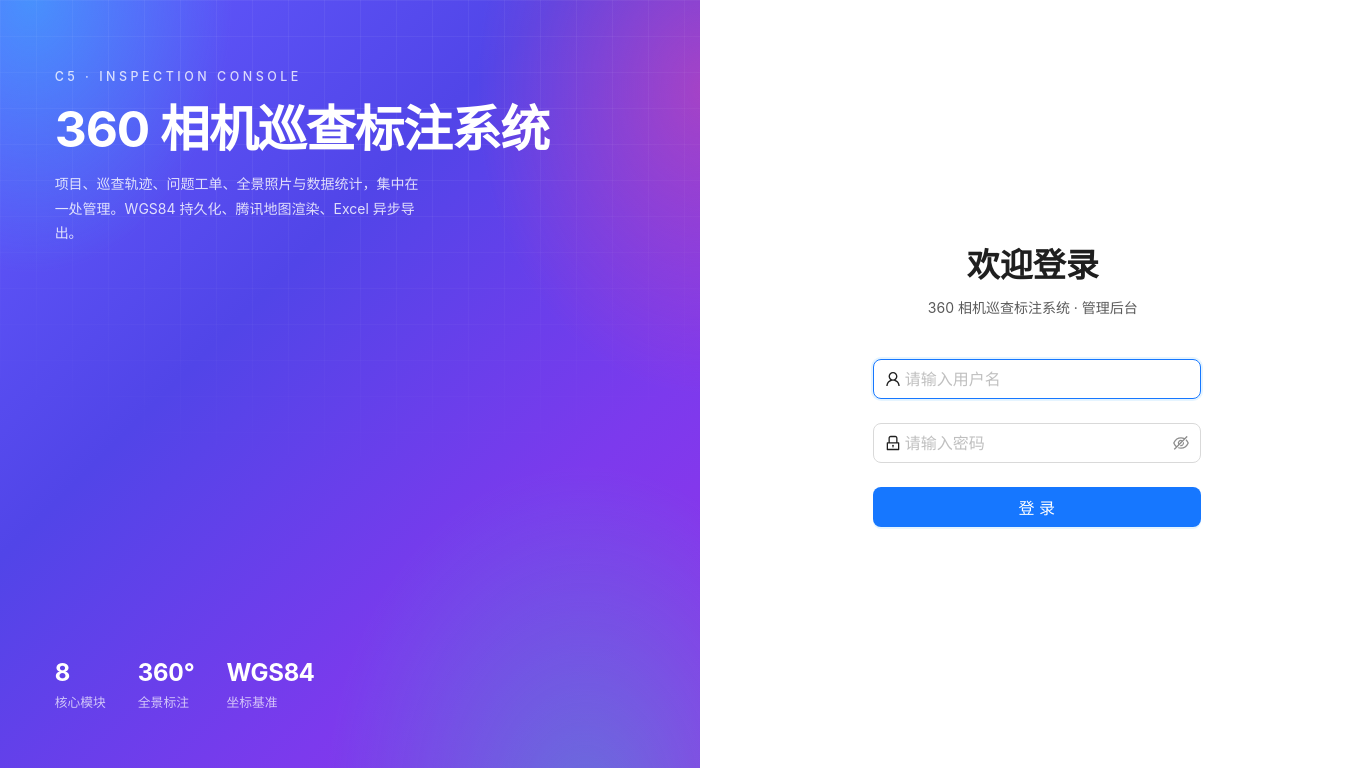
Scenario: LoginPage › shows required-field errors on empty submit
Click the button "登 录" at (1037, 507), box [873, 487, 1201, 527]
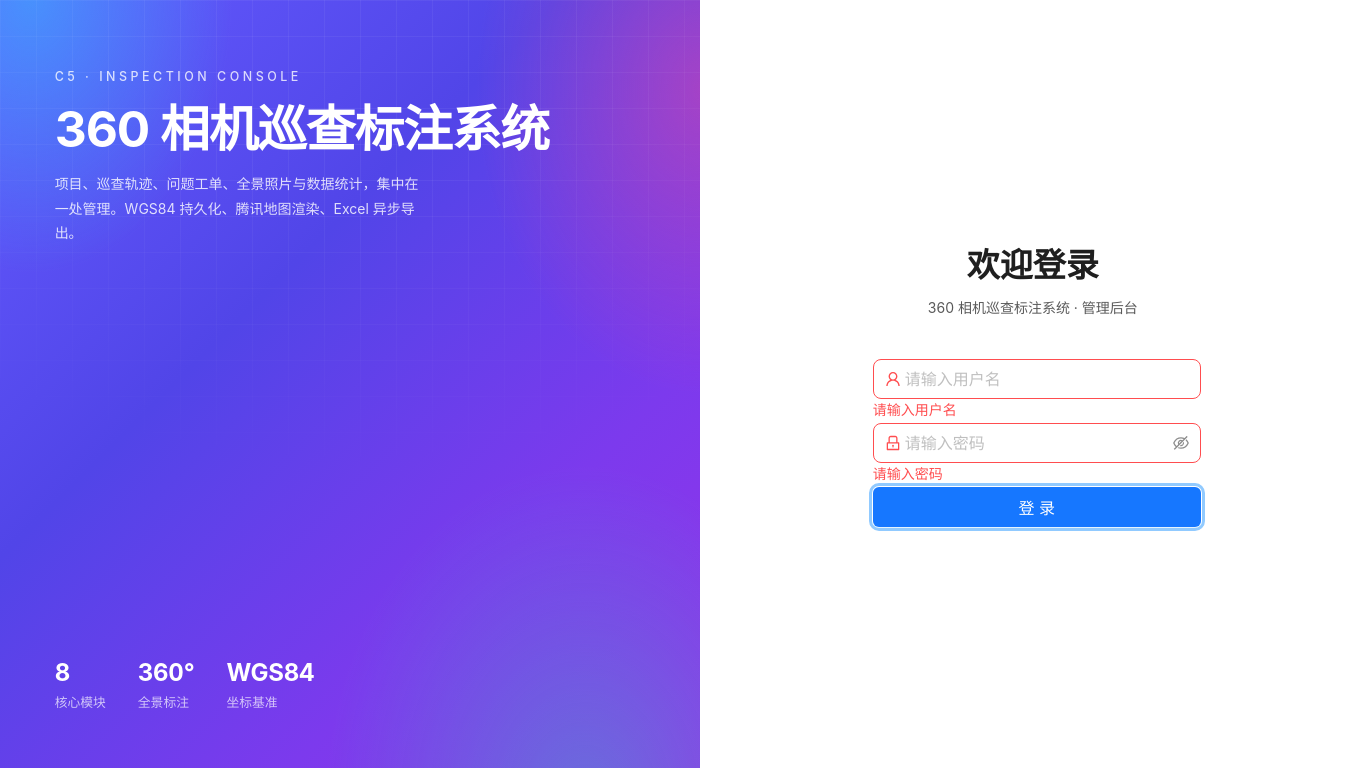
Check: the text "请输入用户名" is shown, box [873, 401, 957, 418]
Check: the text "请输入密码" is shown, box [873, 465, 943, 482]
